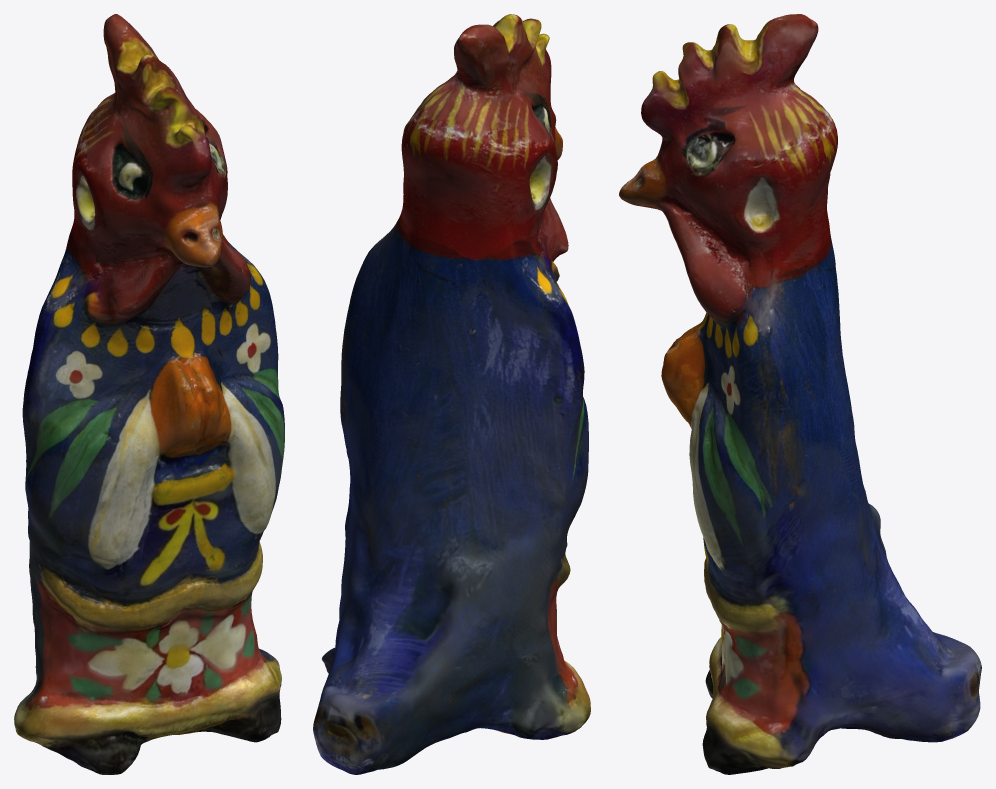
3 views of the same model, side by side, from view 1: azimuth 30°, elevation 25°; view 2: azimuth 150°, elevation 25°; view 3: azimuth 270°, elevation 25° (orthographic).
Bounding box in the file's own units: 0.1462 × 0.3816 × 0.1776.
1 material, 1 textured.
